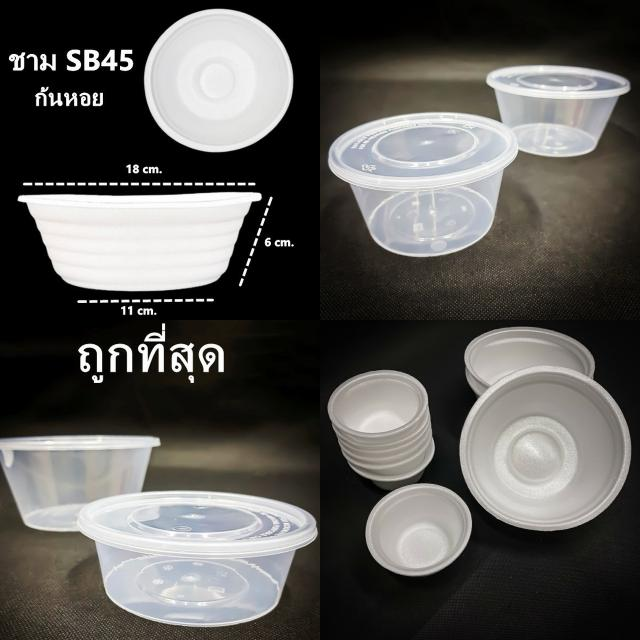Single-Use-Plastic: (78, 491, 318, 628), (460, 366, 631, 531), (329, 112, 518, 256), (19, 192, 261, 291), (145, 9, 292, 152), (0, 435, 160, 531), (486, 65, 630, 156), (328, 370, 434, 489), (365, 484, 471, 576), (465, 326, 595, 396)
